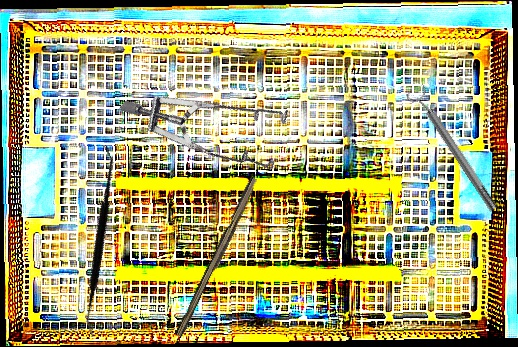Fixation Ring: (405, 82, 503, 217)
Scalpel Handle: (174, 175, 261, 340)
Spatula Surgical: (20, 144, 177, 338)
Speculum: (118, 24, 310, 216)
